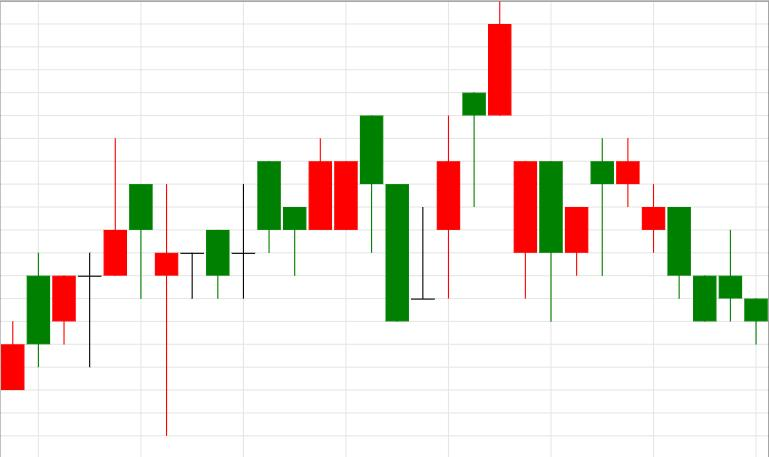hanging_man_fall: (1, 139, 152, 391)
shooting_star_fall: (2, 139, 127, 390)
